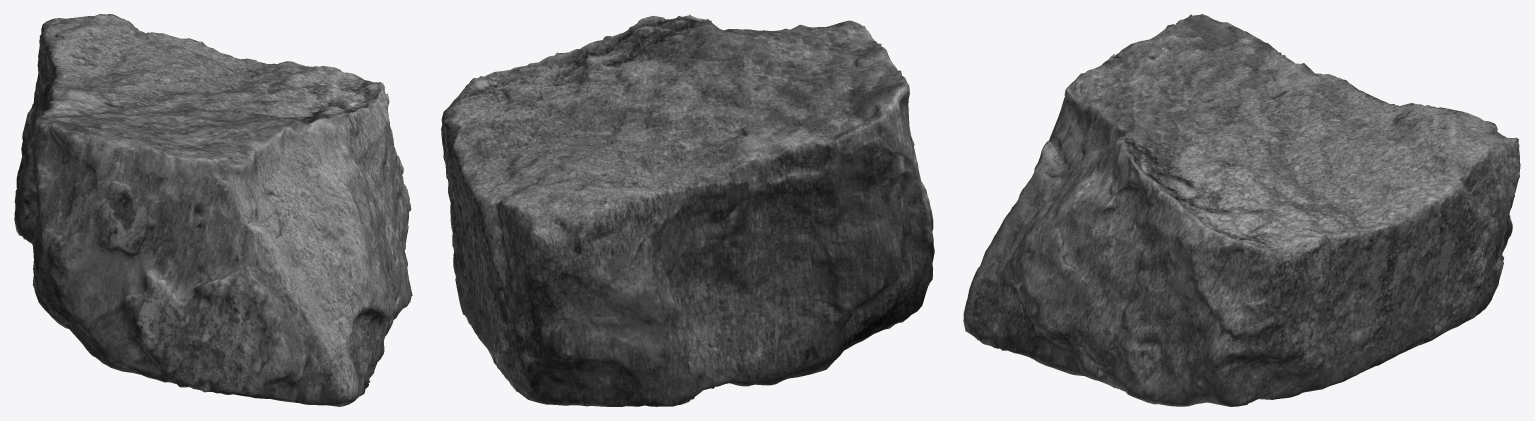
Rendered from boulder.glb.
3 views of the same model, side by side, from view 1: azimuth 30°, elevation 25°; view 2: azimuth 150°, elevation 25°; view 3: azimuth 270°, elevation 25° (orthographic). The views are drawn at different scales.
Visible parts, largest first — view 1: boulder_03_LOD0; view 2: boulder_03_LOD0; view 3: boulder_03_LOD0.
Boxes of the visible parts, x1,y1,x2,y2 form: boulder_03_LOD0: (14, 14, 412, 406); boulder_03_LOD0: (441, 14, 934, 406); boulder_03_LOD0: (963, 14, 1520, 406).
Bounding box in the file's own units: 2.41 × 1.47 × 3.07.
Materials: 1 (1 with a texture image).
